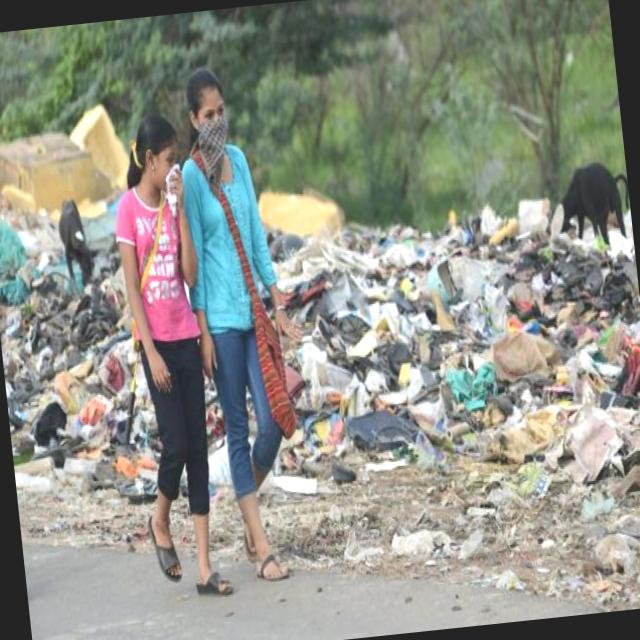garbage: (281, 204, 640, 575), (0, 186, 155, 550)
